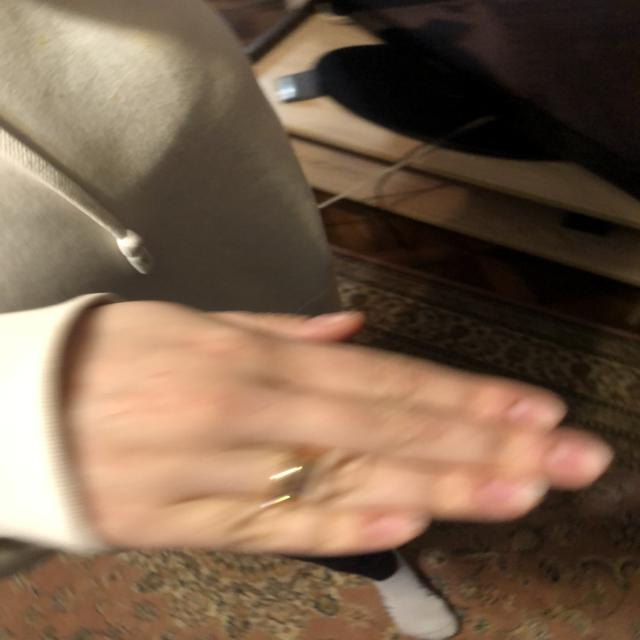paper: (88, 307, 612, 556)
